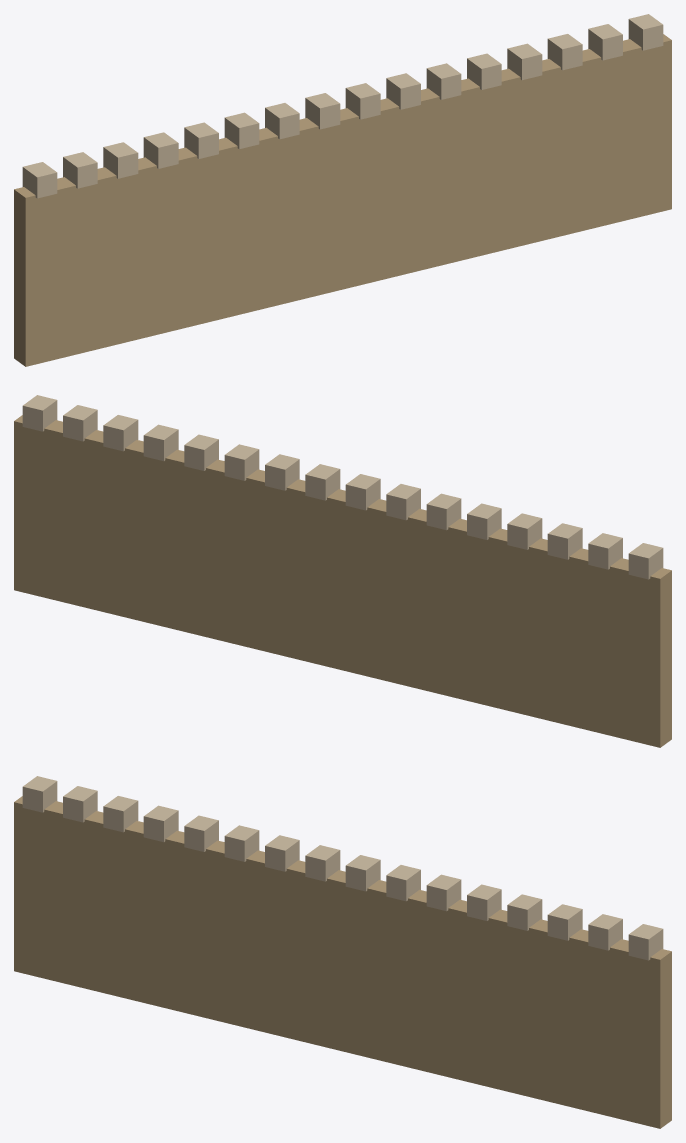
Rendered from city-wall.glb.
3 views of the same model, one above another, from view 1: azimuth 30°, elevation 25°; view 2: azimuth 150°, elevation 25°; view 3: azimuth 330°, elevation 25° (orthographic).
Visible parts, largest first — view 1: city-wall; view 2: city-wall; view 3: city-wall.
Boxes of the visible parts, x1,y1,x2,y2 form: city-wall: (14, 14, 671, 366); city-wall: (14, 395, 671, 747); city-wall: (14, 776, 671, 1128).
Bounding box in the file's own units: 32 × 8.9 × 1.25.
